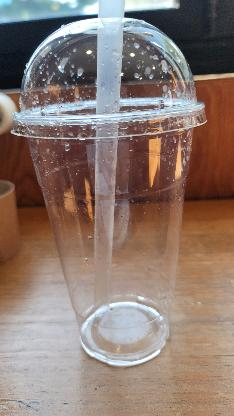Plastic Cup: (8, 17, 206, 368), (12, 18, 209, 142), (93, 0, 126, 318)
